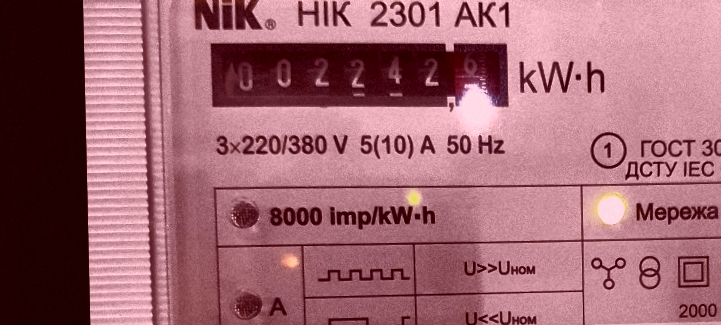0: (235, 58, 256, 92), (273, 55, 293, 88)
2: (311, 55, 331, 87), (348, 55, 366, 89), (422, 55, 440, 87)
4: (387, 52, 403, 85)
6: (462, 48, 478, 76)
screen: (199, 25, 519, 122)
